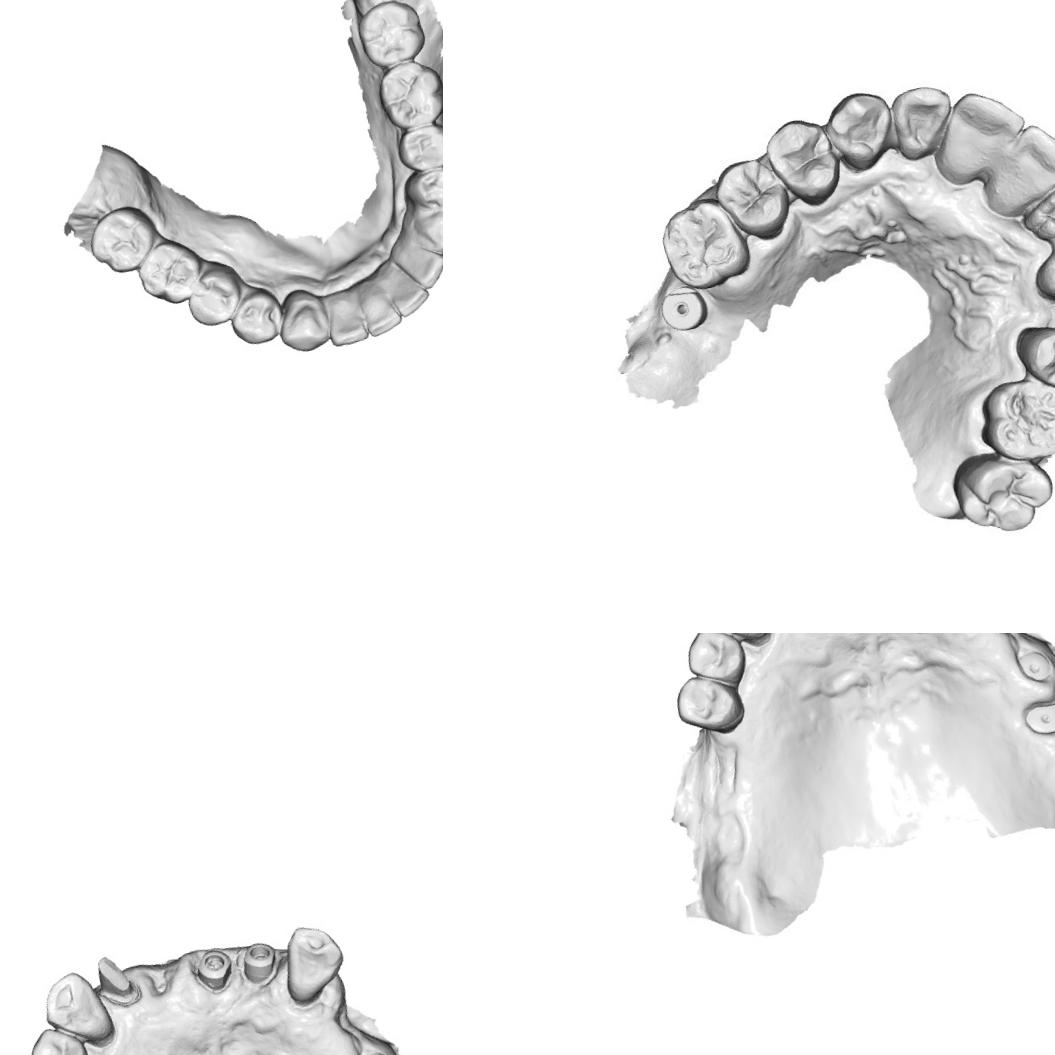canine: (820, 82, 903, 180), (273, 917, 351, 1004), (36, 966, 114, 1050), (272, 290, 335, 357), (1026, 230, 1055, 314), (409, 202, 443, 258)
crown: (87, 944, 142, 1008)
implant: (656, 285, 714, 334), (192, 944, 238, 995), (238, 937, 284, 986), (1012, 646, 1055, 688), (1021, 691, 1055, 740)
incisor: (929, 82, 1034, 188), (975, 112, 1055, 217), (882, 78, 962, 164), (320, 288, 371, 349), (357, 285, 405, 339), (397, 239, 443, 295), (386, 268, 434, 320), (1027, 171, 1055, 246)
molar: (946, 436, 1055, 546), (653, 192, 757, 297), (971, 368, 1055, 470), (82, 200, 164, 280), (133, 234, 210, 312), (372, 52, 443, 132), (352, 0, 429, 71)
premolar: (758, 108, 847, 214), (708, 150, 796, 248), (667, 666, 749, 741), (180, 261, 248, 333), (1009, 306, 1055, 407), (678, 633, 752, 693), (224, 286, 288, 350), (393, 119, 443, 177), (21, 1019, 95, 1055), (401, 163, 443, 215)
